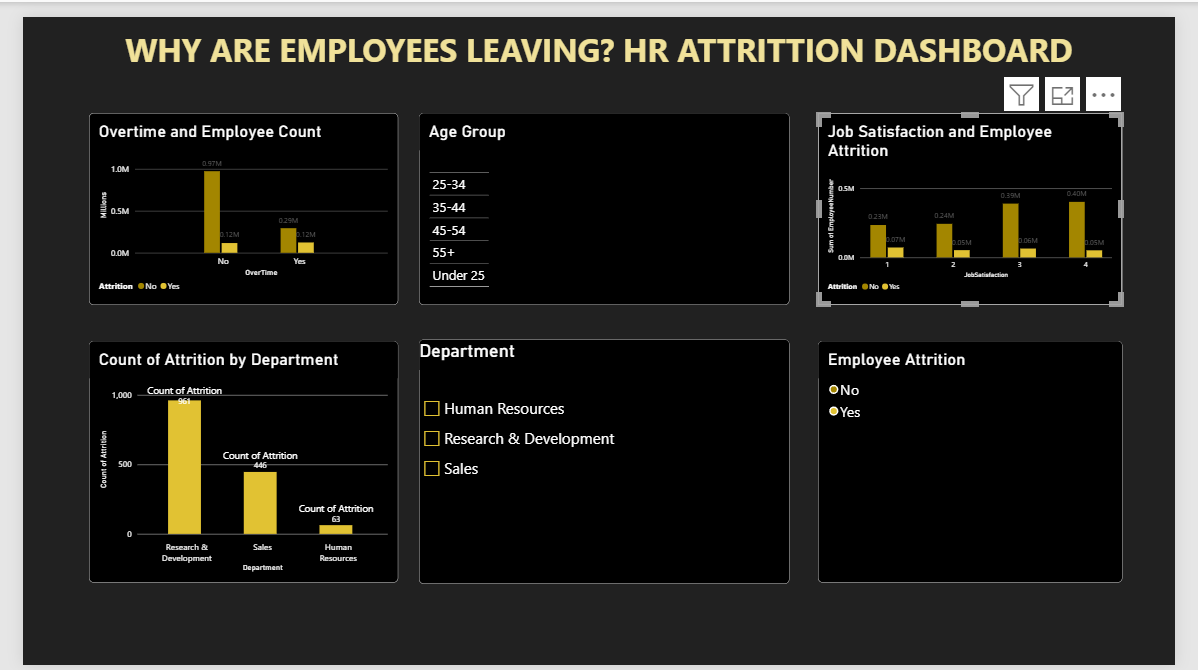

Layout of this report page (visuals, bound fields, positions):
{"tool":"powerbi","page":{"name":"Page 1","canvas":[1920,1080],"ordinal":0},"visuals":[{"type":"donutChart","title":"Employee Attrition","fields":{"Category":["WA_Fn-UseC_-HR-Employee-Attrition.Attrition"]},"box":[1325,540,507.5,402.5],"z":0},{"type":"clusteredColumnChart","fields":{"Category":["WA_Fn-UseC_-HR-Employee-Attrition.Department"],"Y":["CountNonNull(WA_Fn-UseC_-HR-Employee-Attrition.Attrition)"]},"box":[110,540,515,402.5],"z":1000},{"type":"slicer","title":"Department","fields":{"Values":["WA_Fn-UseC_-HR-Employee-Attrition.Department"]},"box":[660,538,617.5,407.5],"z":2000},{"type":"tableEx","title":"Age Group","fields":{"Values":["WA_Fn-UseC_-HR-Employee-Attrition.Age Group"]},"box":[660,160,617.5,320],"z":3000},{"type":"clusteredColumnChart","title":"Overtime and Employee Count","fields":{"Category":["WA_Fn-UseC_-HR-Employee-Attrition.OverTime"],"Series":["WA_Fn-UseC_-HR-Employee-Attrition.Attrition"],"Y":["Sum(WA_Fn-UseC_-HR-Employee-Attrition.EmployeeNumber)"]},"box":[110,160,515,320],"z":4000},{"type":"clusteredColumnChart","title":"Job Satisfaction and Employee Attrition","fields":{"Category":["WA_Fn-UseC_-HR-Employee-Attrition.JobSatisfaction"],"Series":["WA_Fn-UseC_-HR-Employee-Attrition.Attrition"],"Y":["Sum(WA_Fn-UseC_-HR-Employee-Attrition.EmployeeNumber)"]},"box":[1325,160,507.5,320],"z":5000},{"type":"textbox","box":[110,18,1656,106],"z":6000}]}

Visuals, with their boxes in screenshot pixels (x1, y1, x2, y2), scaled from the page's 1920x1080 canvas onto the 1198x670 screenshot:
"Employee Attrition" donutChart: 827/335/1143/585
clusteredColumnChart - WA_Fn-UseC_-HR-Employee-Attrition.Department x CountNonNull(WA_Fn-UseC_-HR-Employee-Attrition.Attrition): 69/335/390/585
"Department" slicer: 412/334/797/587
"Age Group" tableEx: 412/99/797/298
"Overtime and Employee Count" clusteredColumnChart: 69/99/390/298
"Job Satisfaction and Employee Attrition" clusteredColumnChart: 827/99/1143/298
textbox: 69/11/1102/77
